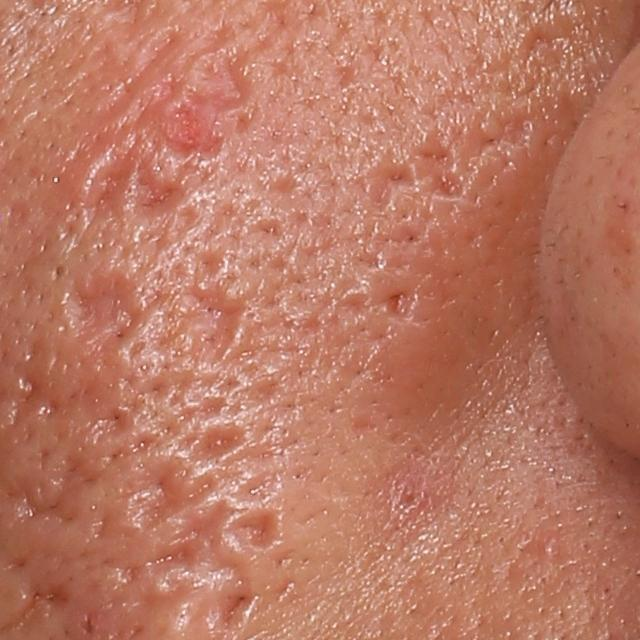atrophic_scar: (360, 94, 549, 211), (125, 291, 258, 374), (145, 51, 249, 157), (111, 454, 222, 539), (144, 501, 256, 584), (4, 443, 94, 526), (62, 270, 156, 341), (227, 505, 299, 564), (83, 147, 133, 223), (135, 166, 198, 224), (181, 422, 248, 466), (518, 24, 574, 65), (382, 292, 418, 331)
